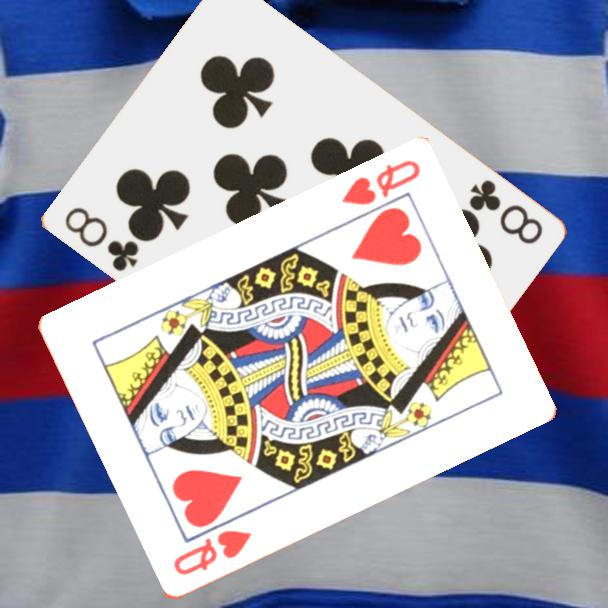c08: (60, 203, 142, 275), (464, 176, 546, 248)
h12: (169, 527, 255, 579), (337, 157, 423, 209)
